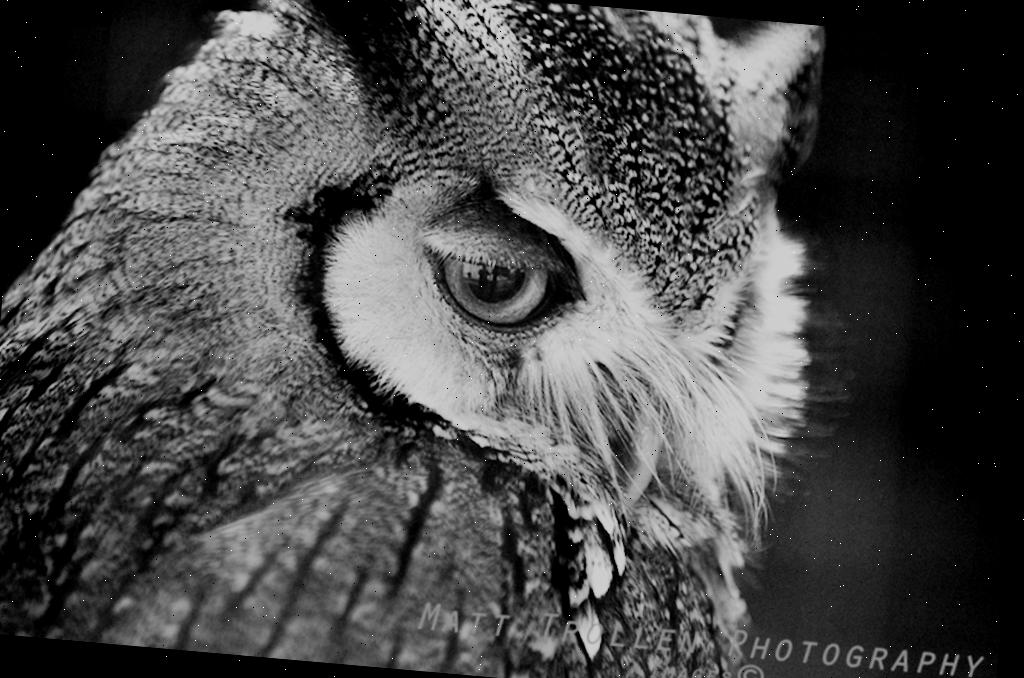Owl: (0, 0, 845, 678)
